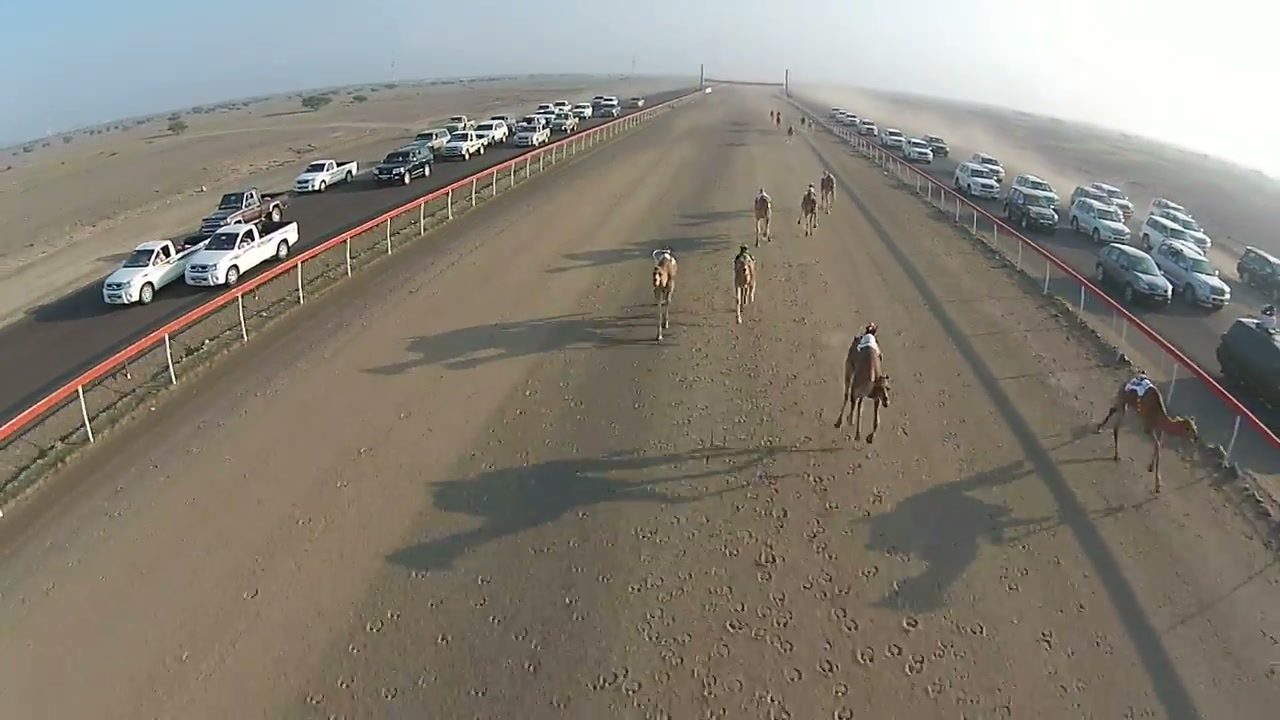animal_foot_print: (579, 331, 919, 715)
